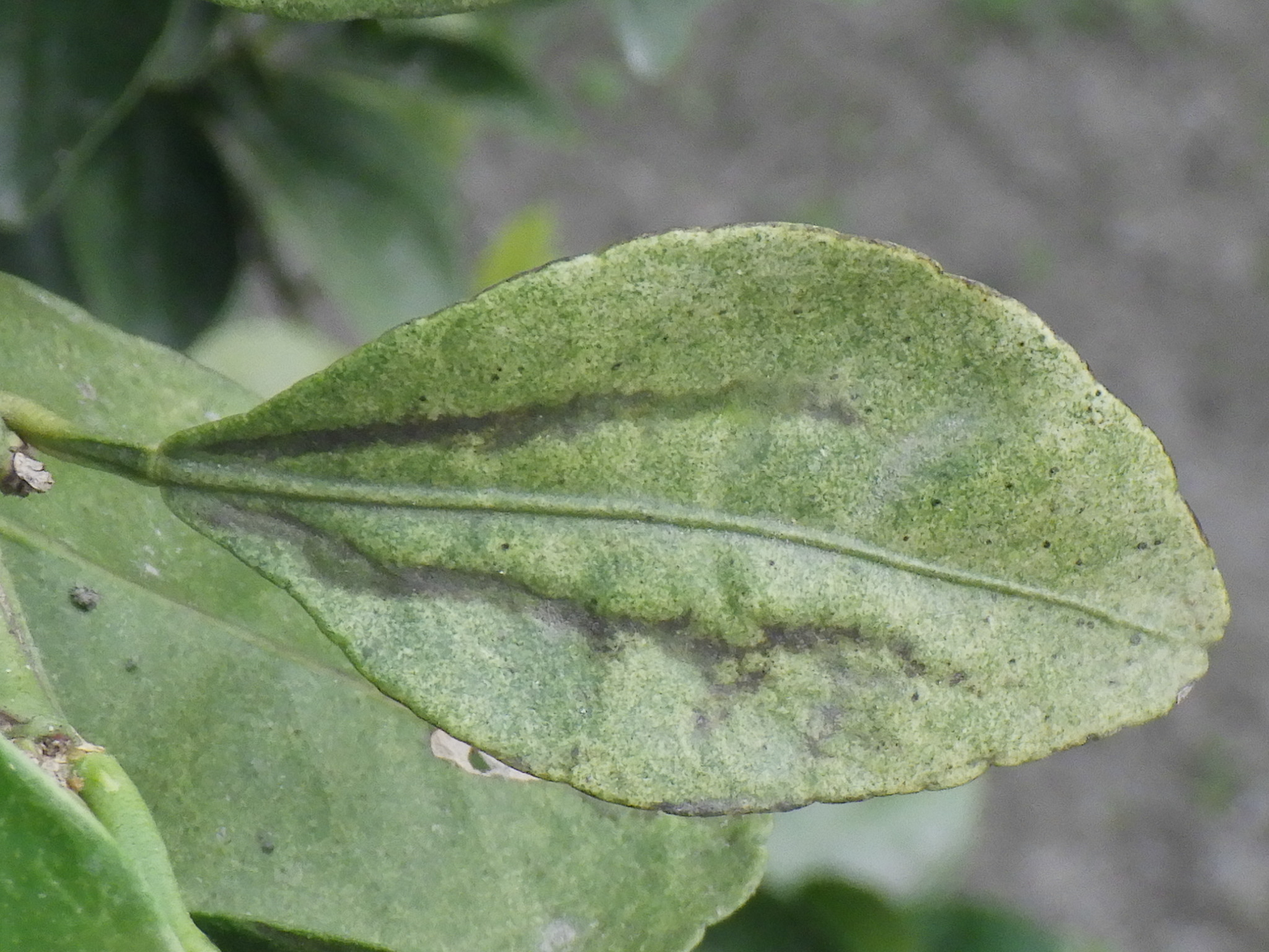Thrips_Damage: (214, 379, 864, 664)
